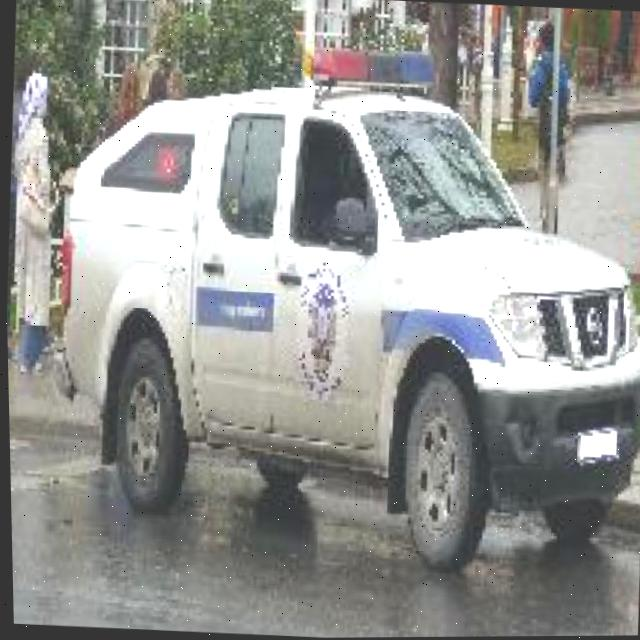emergency: (38, 35, 640, 588)
